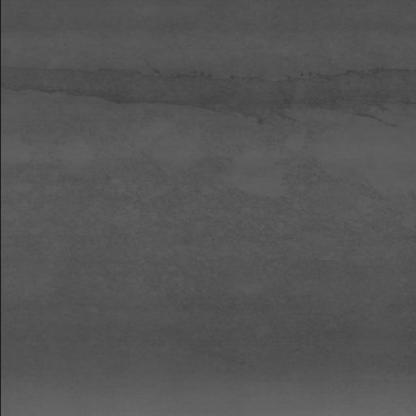water_spot: (0, 62, 415, 147)
